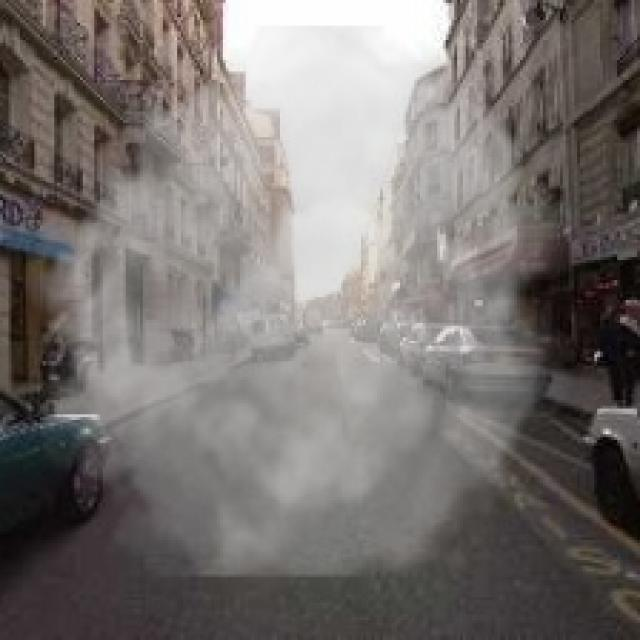Smoke: (17, 25, 586, 578)
